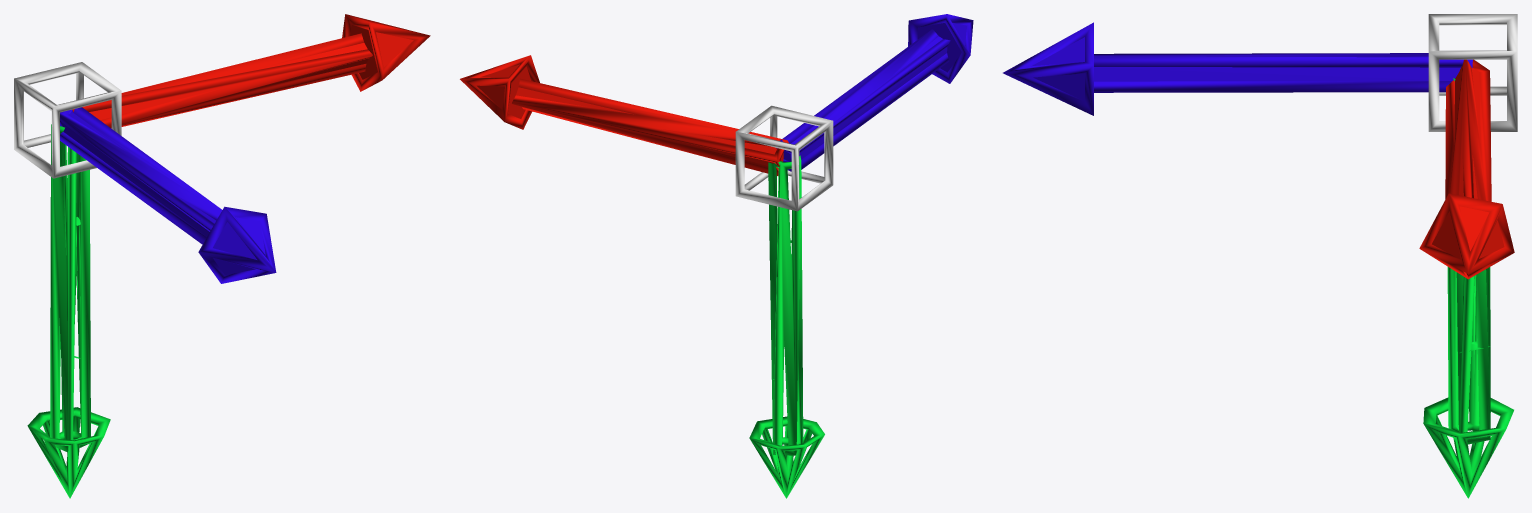
File: Gizmo_XYZ.fbx
3 views of the same model, side by side, from view 1: azimuth 30°, elevation 25°; view 2: azimuth 150°, elevation 25°; view 3: azimuth 270°, elevation 25° (orthographic). The views are drawn at different scales.
Visible parts, largest first — view 1: Y Axis, X Axis, Z Axis, Center; view 2: X Axis, Y Axis, Z Axis, Center; view 3: Z Axis, X Axis, Y Axis, Center.
Part boxes in pixels (x1,y1,x2,y2): Y Axis: (27,124,110,498); X Axis: (72,14,430,128); Z Axis: (60,107,276,283); Center: (14,62,121,225); X Axis: (460,55,788,175); Y Axis: (749,155,824,498); Z Axis: (776,14,973,171); Center: (735,105,833,242); Z Axis: (1003,22,1472,115); X Axis: (1419,59,1514,279); Y Axis: (1423,78,1513,498); Center: (1428,14,1517,131).
Bounding box in the file's own units: 374 × 374 × 372.
